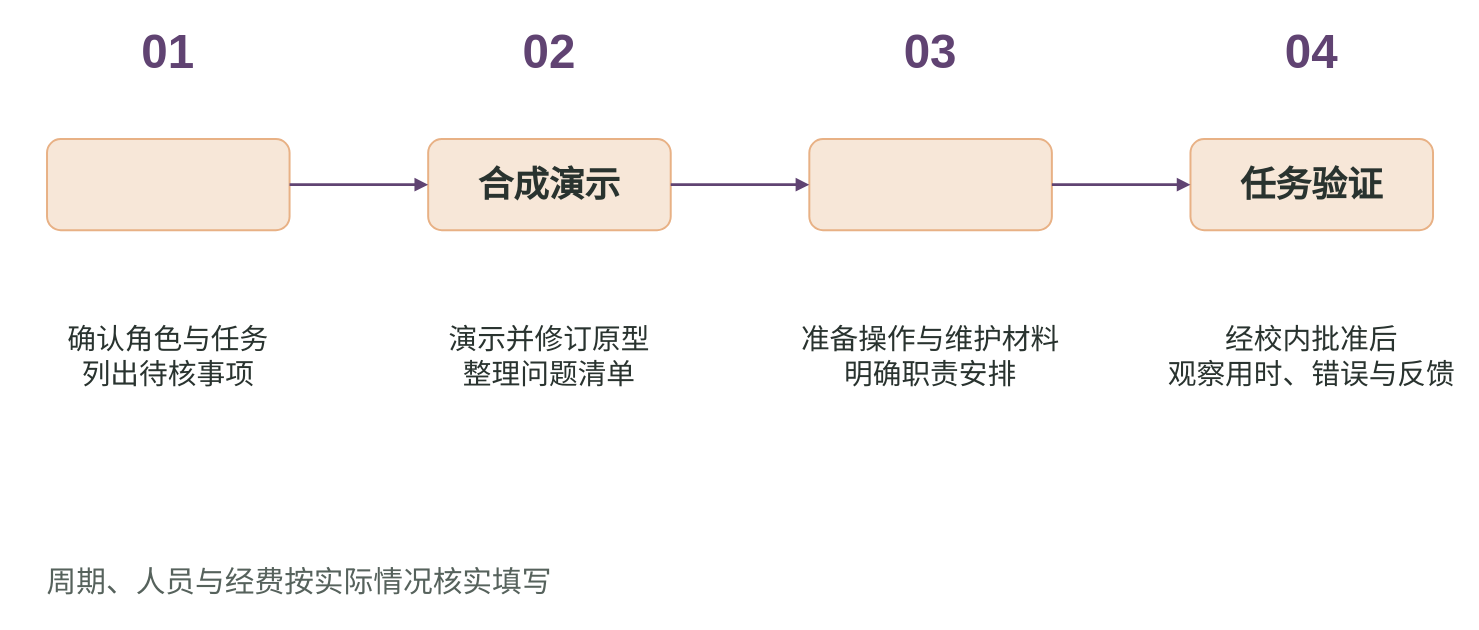
This 1479x630 diagram has some shape labels left out. The centre of each missing label's shape, as x and y in pixels:
培训维护: the point at 930,184
流程了解: the point at 168,184
